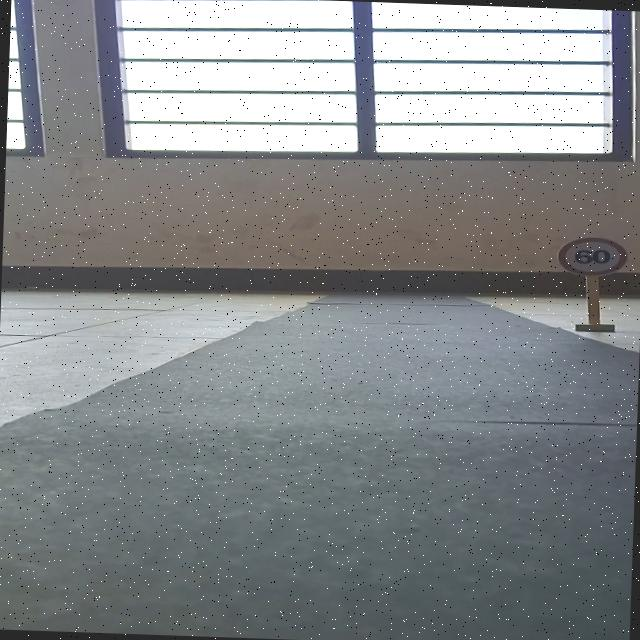Speed60: (556, 234, 629, 276)
